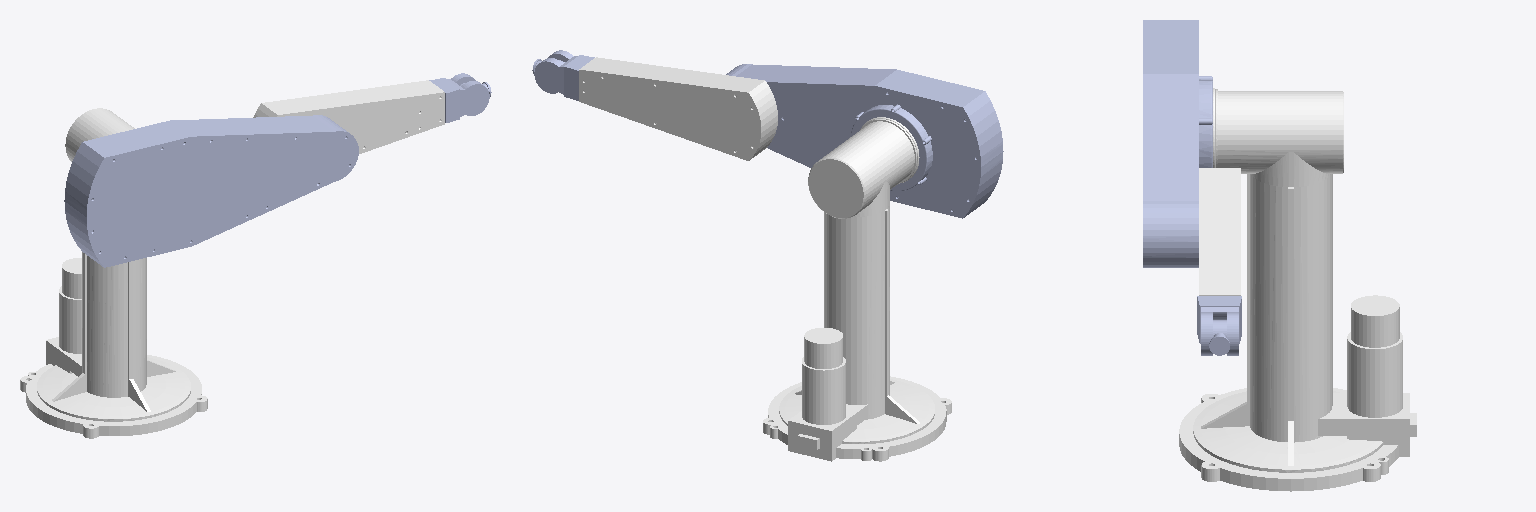
URDF robot description (puma560):
<?xml version="1.0" encoding="utf-8"?>
<!-- This URDF was automatically created by SolidWorks to URDF Exporter! Originally created by [author] ([email redacted]) 
     Commit Version: 1.5.1-0-g916b5db  Build Version: 1.5.7152.31018
     For more information, please see http://wiki.ros.org/sw_urdf_exporter -->
<robot name="puma560">
  <!-- Gazebo ROS control plugin -->
  <gazebo>
    <plugin name="gazebo_ros_control" filename="libgazebo_ros_control.so">
      <robotNamespace>/puma560</robotNamespace>
      <!-- robotSimType>gazebo_ros_control/DefaultRobotHWSim</robotSimType -->
    </plugin>
  </gazebo>

  <!-- Robot description -->
  <!-- Dummy link description -->
  <link name="world" />
  <joint name="joint_world" type="fixed">
  	<parent link="world"/>
  	<child link="base_link"/>
  </joint>

  <!-- Base link description -->
  <link name="base_link">
    <inertial>
      <origin xyz="-9.5399E-11 0.021962 0.19252" rpy="0 0 0" />
      <mass value="15.787" />
      <inertia ixx="0.55024" ixy="-2.863E-11" ixz="-1.6743E-10"
                             iyy="0.50424"    iyz="0.022162"
                                              izz="0.16071" />
    </inertial>
    <visual>
      <origin xyz="0 0 0" rpy="0 0 0" />
      <geometry>
        <mesh filename="package://puma560_robot/meshes/visual/base_link.STL" />
      </geometry>
      <material name="white">
        <color rgba="1 1 1 1" />
      </material>
    </visual>
    <collision>
      <origin xyz="0 0 0" rpy="0 0 0" />
      <geometry>
        <mesh filename="package://puma560_robot/meshes/collision/base_link.STL" />
      </geometry>
    </collision>
  </link>

  <!-- Waist link description -->
  <link name="waist_link">
    <inertial>
      <origin xyz="0.022505 1.5634E-07 -0.0027897" rpy="0 0 0" />
      <mass value="4.4341" />
      <inertia ixx="0.013316" ixy="1.005E-08" ixz="-0.00027854"
                              iyy="0.027328"  iyz="-7.7933E-09"
                                              izz="0.027164" />
    </inertial>
    <visual>
      <origin xyz="0 0 0" rpy="0 0 0" />
      <geometry>
        <mesh filename="package://puma560_robot/meshes/visual/waist_link.STL" />
      </geometry>
      <material name="white">
        <color  rgba="1 1 1 1" />
      </material>
    </visual>
    <collision>
      <origin xyz="0 0 0" rpy="0 0 0" />
      <geometry>
        <mesh filename="package://puma560_robot/meshes/collision/waist_link.STL" />
      </geometry>
    </collision>
  </link>

  <!-- Base to Waist joint description -->
  <joint name="joint_base_to_waist" type="revolute">
    <origin xyz="0 0 0.62357" rpy="0 0 -1.5708" />
    <parent link="base_link" />
    <child link="waist_link" />
    <axis xyz="0 0 1" />
    <limit lower="-2.7925" upper="2.7925" effort="77" velocity="1.43117" />
  </joint>

  <!-- Shoulder link description --><!-- cambio de nombre -->
  <link name="shoulder_link">
    <inertial>
      <origin xyz="0.082737 -4.6775E-05 -0.0031596" rpy="0 0 0" />
      <mass value="16.847" />
      <inertia ixx="0.09723" ixy="-7.8859E-06" ixz="-0.0043475"
                             iyy="0.59657"     iyz="-4.8383E-05"
                                               izz="0.65976" />
    </inertial>
    <visual>
      <origin xyz="0 0 0" rpy="0 0 0" />
      <geometry>
        <mesh filename="package://puma560_robot/meshes/visual/shoulder_link.STL" />
      </geometry>
      <material name="ecolor">
        <color rgba="0.79216 0.81961 0.93333 1" />
      </material>
    </visual>
    <collision>
      <origin xyz="0 0 0" rpy="0 0 0" />
      <geometry>
        <mesh filename="package://puma560_robot/meshes/collision/shoulder_link.STL" />
      </geometry>
    </collision>
  </link>

  <!-- Waist to Shoulder joint description -->
  <joint name="joint_waist_to_shoulder" type="revolute">
    <origin xyz="0.21844 0 0" rpy="1.5708 0 1.5708" />
    <parent link="waist_link" />
    <child  link="shoulder_link" />
    <axis xyz="0 0 1" />
    <limit lower="-1.9199" upper="1.9199" effort="133" velocity="1.291543" />
  </joint>

  <!-- Elbow link description -->
  <link name="elbow_link">
    <inertial>
      <origin xyz="0.088774 1.1788E-06 1.5623E-06" rpy="0 0 0" />
      <mass value="4.6025" />
      <inertia ixx="0.0091916" ixy="-4.837E-07" ixz="2.2739E-06"
                               iyy="0.082615"   iyz="-3.6529E-07"
                                                izz="0.087355" />
    </inertial>
    <visual>
      <origin xyz="0 0 0" rpy="0 0 0" />
      <geometry>
        <mesh filename="package://puma560_robot/meshes/visual/elbow_link.STL" />
      </geometry>
      <material name="white">
        <color rgba="1 1 1 1" />
      </material>
    </visual>
    <collision>
      <origin xyz="0 0 0" rpy="0 0 0" />
      <geometry>
        <mesh filename="package://puma560_robot/meshes/collision/elbow_link.STL" />
      </geometry>
    </collision>
  </link>

  <!-- Shoulder to Elbow joint description -->
  <joint name="joint_shoulder_to_elbow" type="revolute">
    <origin xyz="0.4318 0 -0.0889" rpy="0 0 0" />
    <parent link="shoulder_link" />
    <child link="elbow_link" />
    <axis xyz="0 0 -1" />
    <limit lower="-2.3562" upper="2.3562" effort="66" velocity="2.1293" />
  </joint>

  <!-- Wrist Blend link description -->
  <link name="wrist_bend_link">
    <inertial>
      <origin xyz="0 0 0.02757" rpy="0 0 0" />
      <mass value="0.47079" />
      <inertia ixx="0.00073772" ixy="4.6144E-21" ixz="3.7347E-20"
                                iyy="0.00077289" iyz="1.5125E-19"
                                                 izz="0.00046683" />
    </inertial>
    <visual>
      <origin xyz="0 0 0" rpy="0 0 0" />
      <geometry>
        <mesh filename="package://puma560_robot/meshes/visual/wrist_bend_link.STL" />
      </geometry>
      <material name="scolor">
        <color rgba="0.79216 0.81961 0.93333 1" />
      </material>
    </visual>
    <collision>
      <origin xyz="0 0 0" rpy="0 0 0" />
      <geometry>
        <mesh filename="package://puma560_robot/meshes/collision/wrist_bend_link.STL" />
      </geometry>
    </collision>
  </link>

  <!-- Elbow to Wrist Bend joint description -->
  <joint name="joint_elbow_to_wrist_bend" type="revolute">
    <origin xyz="0.37211 0 0" rpy="0 1.5708 0" />
    <parent link="elbow_link" />
    <child link="wrist_bend_link" />
    <axis xyz="0 0 1" />
    <limit lower="-1.7453" upper="1.7453" effort="13" velocity="3.97935" />
  </joint>

  <!-- Wrist Roll link description -->
  <link name="wrist_roll_link">
    <inertial>
      <origin xyz="3.9262E-10 -0.010974 2.7756E-17" rpy="0 0 0" />
      <mass value="0.077406" />
      <inertia ixx="4.3032E-05" ixy="-1.1303E-12" ixz="-1.2065E-11"
                                iyy="1.6966E-05"  iyz="1.2248E-20"
                                                  izz="4.5414E-05" />
    </inertial>
    <visual>
      <origin xyz="0 0 0" rpy="0 0 0" />
      <geometry>
        <mesh filename="package://puma560_robot/meshes/visual/wrist_roll_link.STL" />
      </geometry>
      <material name="dcolor">
        <color rgba="0.79216 0.81961 0.93333 1" />
      </material>
    </visual>
    <collision>
      <origin xyz="0 0 0" rpy="0 0 0" />
      <geometry>
        <mesh filename="package://puma560_robot/meshes/collision/wrist_roll_link.STL" />
      </geometry>
    </collision>
  </link>

  <!-- Wrist Bend to Wrist Roll joint description -->
  <joint name="joint_wrist_bend_to_roll" type="revolute">
    <origin xyz="0 0 0.059979" rpy="-1.5708 0 -1.5708" />
    <parent link="wrist_bend_link" />
    <child link="wrist_roll_link" />
    <axis xyz="0 0 1" />
    <limit lower="-2.094395102" upper="2.094395102" effort="12" velocity="4.20624" />
  </joint>

  <!-- Joints transmission description -->
  <transmission name="trans_joint_base_to_waist">
    <type>transmission_interface/SimpleTransmission</type>
    <joint name="joint_base_to_waist">
      <hardwareInterface>hardware_interface/PositionJointInterface</hardwareInterface>
    </joint>
    <actuator name="motor_joint_base_to_waist">
      <hardwareInterface>hardware_interface/PositionJointInterface</hardwareInterface>
      <mechanicalReduction>1</mechanicalReduction>
    </actuator>
  </transmission>
  <transmission name="trans_joint_waist_to_shoulder">
    <type>transmission_interface/SimpleTransmission</type>
    <joint name="joint_waist_to_shoulder">
      <hardwareInterface>hardware_interface/PositionJointInterface</hardwareInterface>
    </joint>
    <actuator name="motor_joint_waist_to_shoulder">
      <hardwareInterface>hardware_interface/PositionJointInterface</hardwareInterface>
      <mechanicalReduction>1</mechanicalReduction>
    </actuator>
  </transmission>
  <transmission name="trans_joint_shoulder_to_elbow">
    <type>transmission_interface/SimpleTransmission</type>
    <joint name="joint_shoulder_to_elbow">
      <hardwareInterface>hardware_interface/PositionJointInterface</hardwareInterface>
    </joint>
    <actuator name="motor_joint_shoulder_to_elbow">
      <hardwareInterface>hardware_interface/PositionJointInterface</hardwareInterface>
      <mechanicalReduction>1</mechanicalReduction>
    </actuator>
  </transmission>
  <transmission name="trans_joint_elbow_to_wrist_bend">
    <type>transmission_interface/SimpleTransmission</type>
    <joint name="joint_elbow_to_wrist_bend">
      <hardwareInterface>hardware_interface/PositionJointInterface</hardwareInterface>
    </joint>
    <actuator name="motor_joint_elbow_to_wrist_bend">
      <hardwareInterface>hardware_interface/PositionJointInterface</hardwareInterface>
      <mechanicalReduction>1</mechanicalReduction>
    </actuator>
  </transmission>
  <transmission name="trans_joint_wrist_bend_to_roll">
  	<type>transmission_interface/SimpleTransmission</type>
  	<joint name="joint_wrist_bend_to_roll">
  		<hardwareInterface>hardware_interface/PositionJointInterface</hardwareInterface>
  	</joint>
  	<actuator name="motor_joint_wrist_bend_to_roll">
  		<hardwareInterface>hardware_interface/PositionJointInterface</hardwareInterface>
  		<mechanicalReduction>1</mechanicalReduction>
  	</actuator>
  </transmission>

</robot>

--- Render facts (derived) ---
Views: 3 orthographic renders of the robot side by side, from view 1: azimuth 30°, elevation 25°; view 2: azimuth 150°, elevation 25°; view 3: azimuth 270°, elevation 25°.
Model puma560 with 7 links and 6 joints (5 revolute, 1 fixed), rooted at world, posed all joints at 0.
Visible links, largest first — view 1: shoulder_link, base_link, elbow_link, wrist_bend_link, waist_link; view 2: base_link, shoulder_link, elbow_link, waist_link, wrist_bend_link; view 3: base_link, shoulder_link, waist_link, elbow_link, wrist_bend_link, wrist_roll_link.
Boxes of the visible links, <box> form: shoulder_link: <box>64,115,358,267</box>; base_link: <box>20,252,207,438</box>; elbow_link: <box>253,80,444,153</box>; wrist_bend_link: <box>429,73,489,122</box>; waist_link: <box>65,108,134,161</box>; base_link: <box>763,206,951,461</box>; shoulder_link: <box>726,64,1003,218</box>; elbow_link: <box>579,57,777,160</box>; waist_link: <box>808,117,919,218</box>; wrist_bend_link: <box>534,50,594,100</box>; base_link: <box>1179,174,1416,491</box>; shoulder_link: <box>1143,20,1212,267</box>; waist_link: <box>1213,88,1343,186</box>; elbow_link: <box>1199,168,1240,295</box>; wrist_bend_link: <box>1197,296,1241,355</box>; wrist_roll_link: <box>1209,320,1229,355</box>.
Bounding box of the posed robot: 1.15 × 0.4978 × 0.7633 m (x, y, z).
Meshes: 6 distinct files referenced, 6 mesh visuals loaded (6 binary STL).